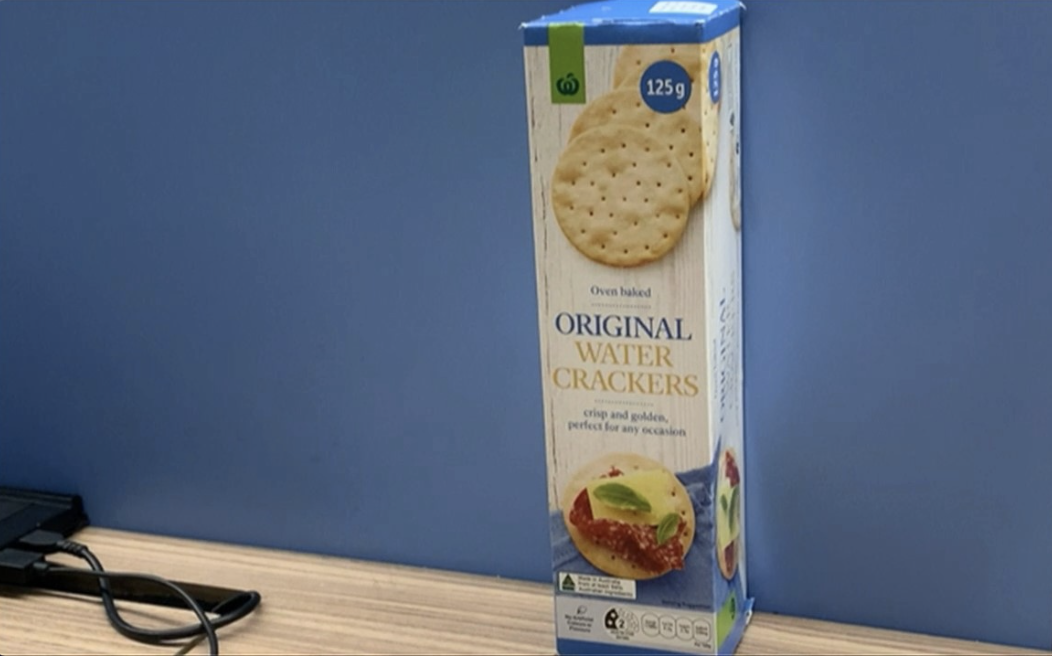crackers_100g-199g: (556, 22, 714, 640)
